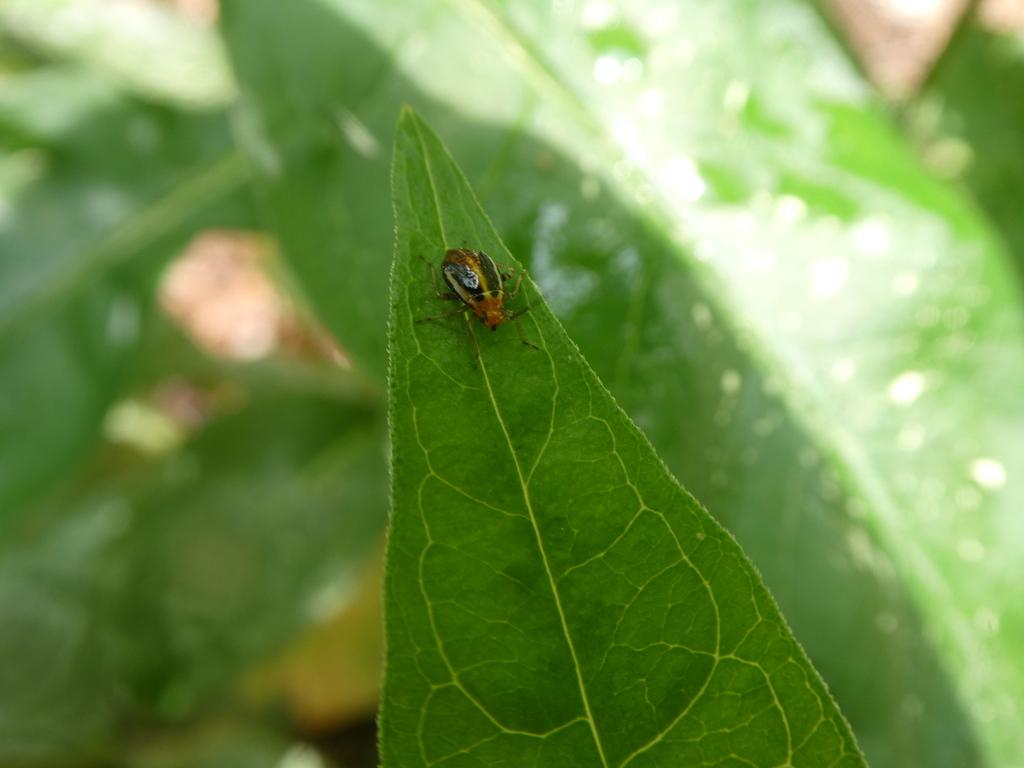plant_bugs: (387, 221, 561, 374)
